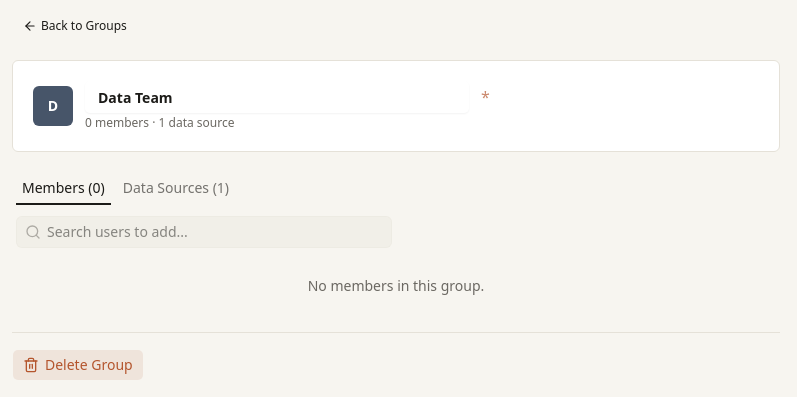
Test: GroupDetail data source grants › changes a grant to view-only and posts what it changed
The image size is (797, 397).
Click the tab "Data Sources (1)": click(176, 188) [116,176,236,200]
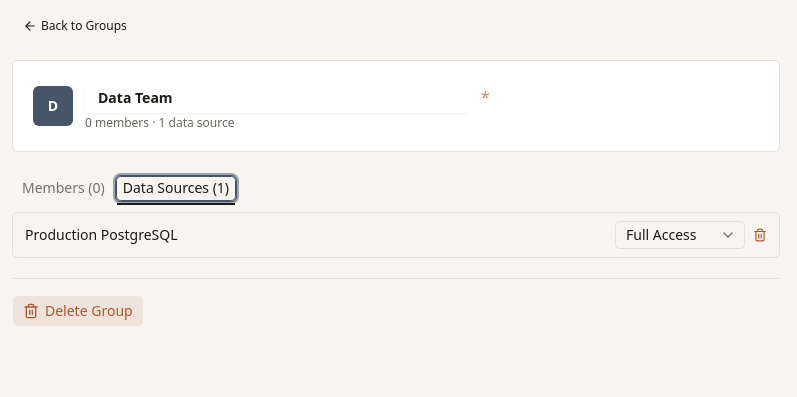
Now the dropdown shows "Full Access"
Click the dropdown: click(680, 235) [615,221,745,249]
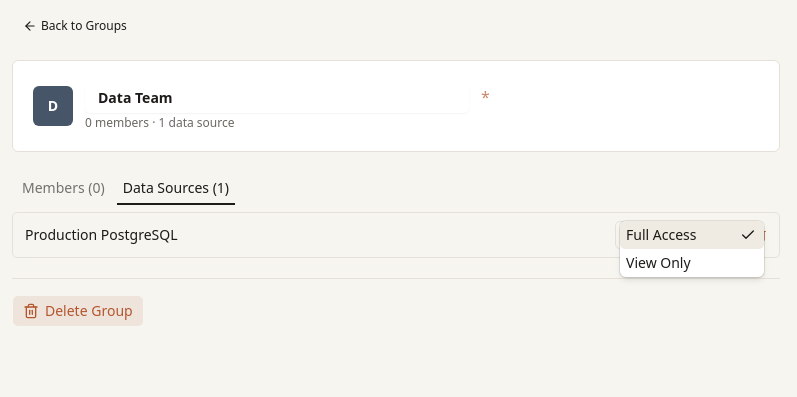
Click the option "View Only": click(658, 262) [626,253,691,272]
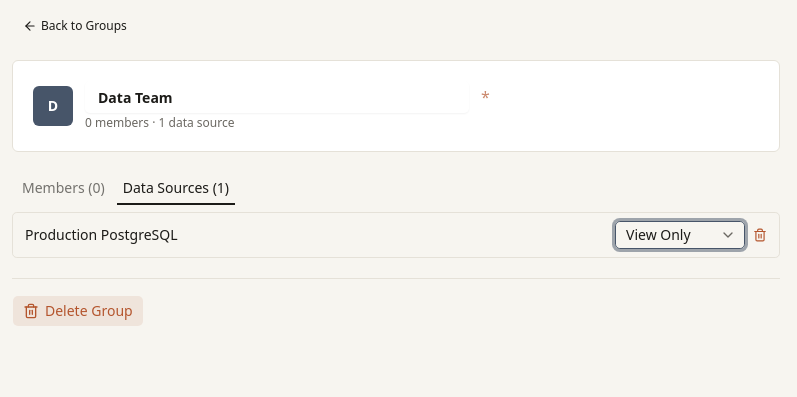
Now the dropdown shows "View Only", box [615,221,745,249]
